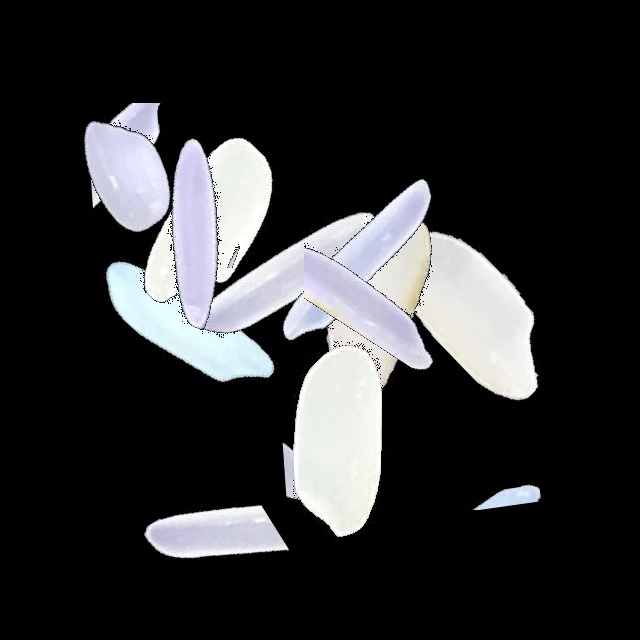Broken: (415, 158, 586, 408), (304, 133, 449, 383), (81, 480, 331, 624), (25, 103, 275, 224), (211, 393, 461, 500), (350, 410, 600, 510), (76, 181, 326, 268)
Full: (59, 203, 309, 453), (81, 102, 331, 352), (166, 146, 416, 396), (254, 180, 504, 430), (213, 314, 463, 564), (234, 138, 484, 388), (70, 109, 320, 359), (0, 46, 250, 296)
